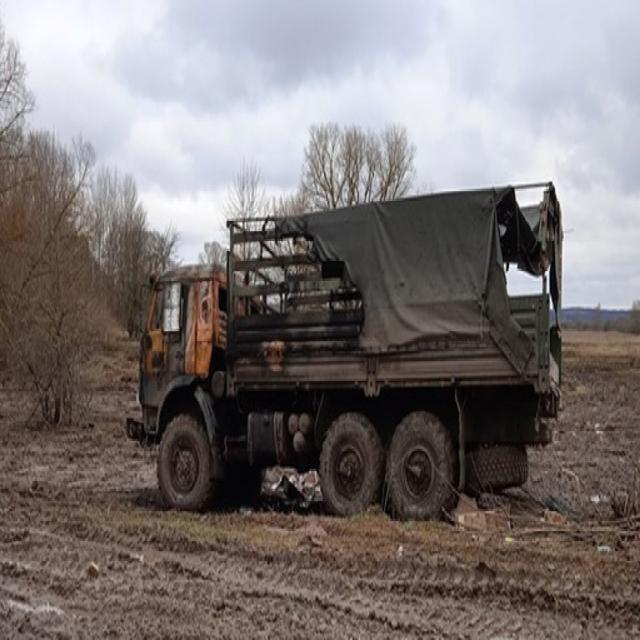TRUCK: (113, 171, 562, 529)
